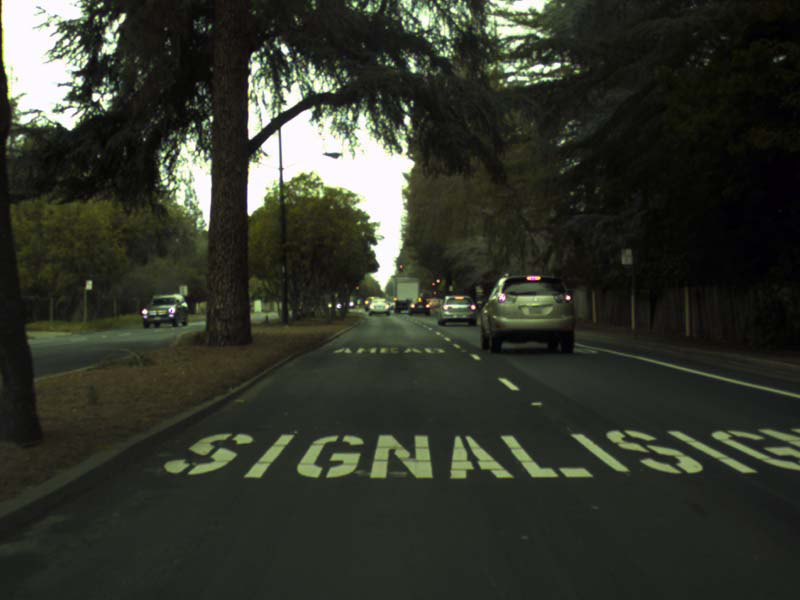Red: (397, 261, 403, 272), (431, 280, 435, 291), (355, 283, 359, 292), (435, 276, 439, 285)
